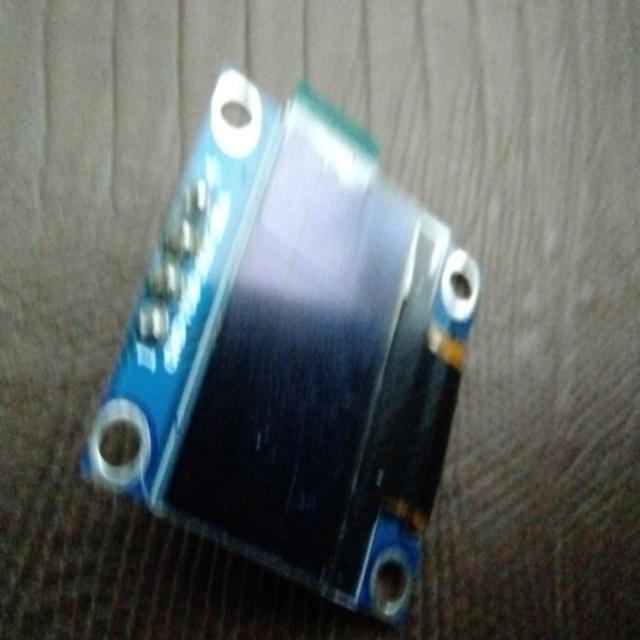oled: (74, 62, 488, 636)
